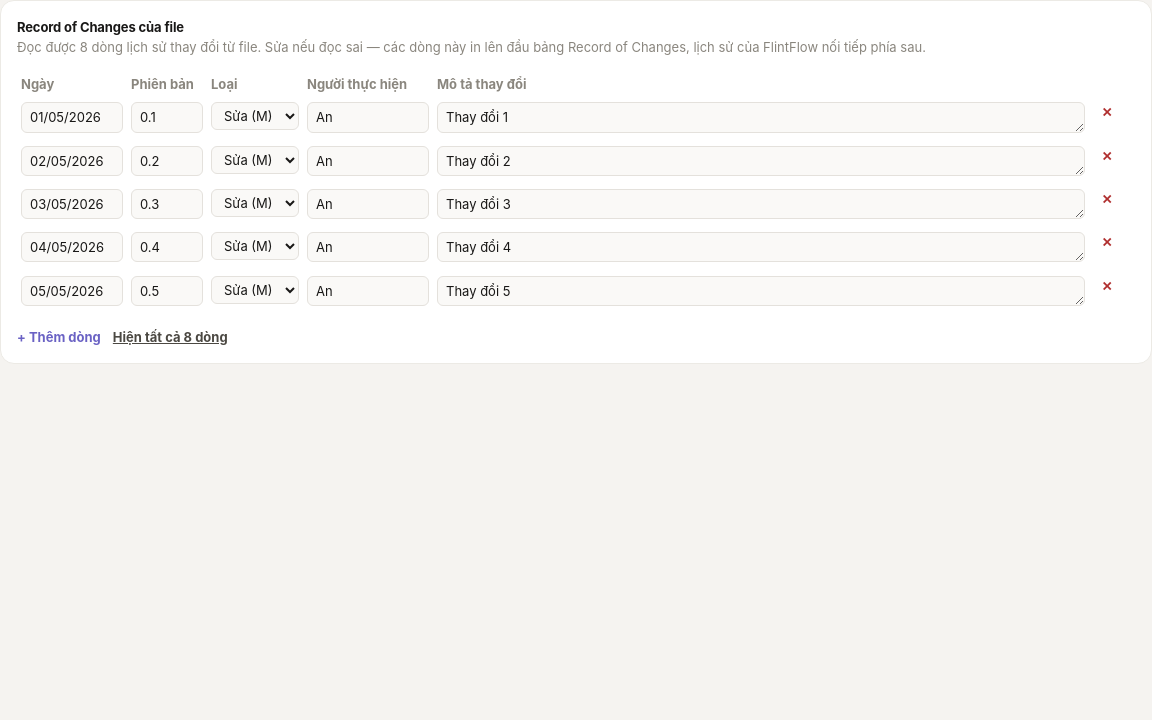
Scenario: RecordOfChangesCard (FLF-252) › nhiều dòng (file FlintFlow xuất ra) ⇒ thu gọn 5 dòng, bấm để hiện tất cả
expect the number of text boxes named "Mô tả dòng" is 5: met, box left=437, top=102, right=1085, bottom=132; left=437, top=146, right=1085, bottom=176; left=437, top=189, right=1085, bottom=219; left=437, top=232, right=1085, bottom=262; left=437, top=276, right=1085, bottom=306
Click the button "Hiện tất cả 8 dòng": (170,337) left=113, top=327, right=228, bottom=347
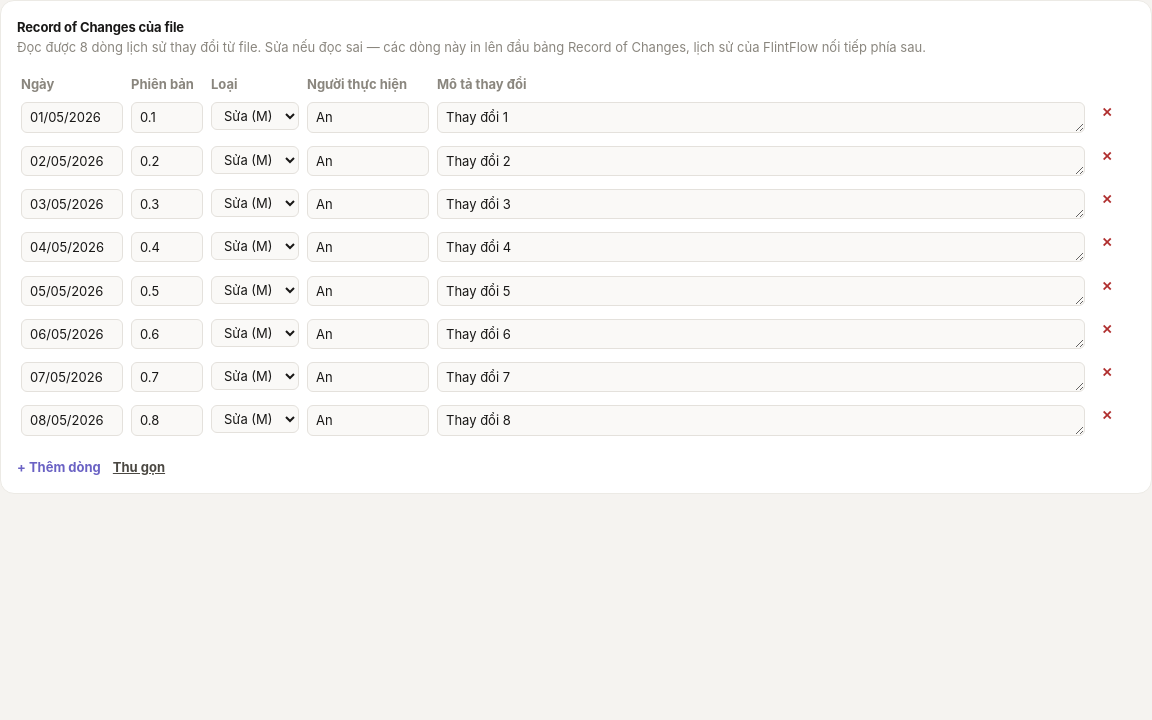
expect the number of text boxes named "Mô tả dòng" is 8: met
